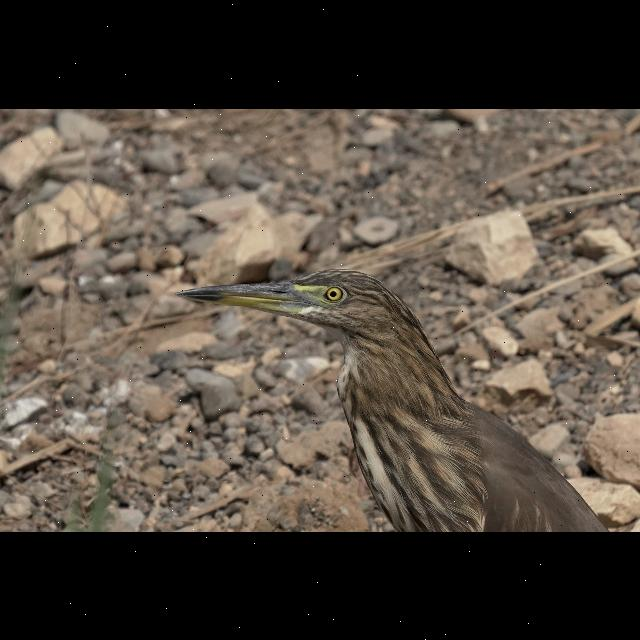heron: (166, 258, 608, 532)
